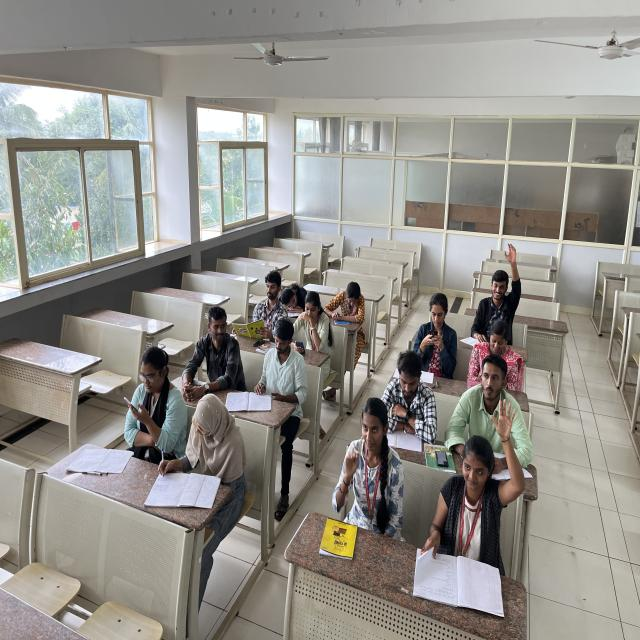Hand Rising: (448, 399, 521, 556), (468, 243, 528, 330)
Reading: (379, 353, 434, 451), (232, 270, 282, 334), (278, 277, 312, 320)
Using Phone: (121, 346, 183, 450), (410, 294, 462, 366), (291, 289, 330, 358)
Writing: (153, 396, 240, 510), (238, 332, 300, 422)
